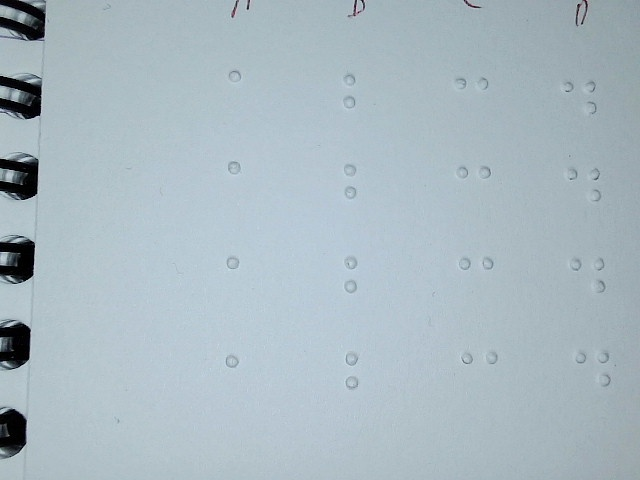A: (220, 62, 268, 128), (219, 152, 267, 218), (218, 246, 266, 312), (218, 346, 266, 412)
B: (336, 248, 385, 318), (336, 155, 385, 225), (335, 66, 384, 136), (337, 342, 386, 412)
C: (448, 69, 496, 133), (451, 158, 499, 222), (453, 247, 501, 311), (455, 343, 503, 407)
